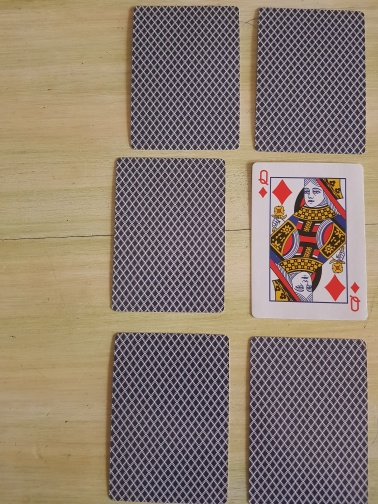queen: (249, 161, 368, 321)
